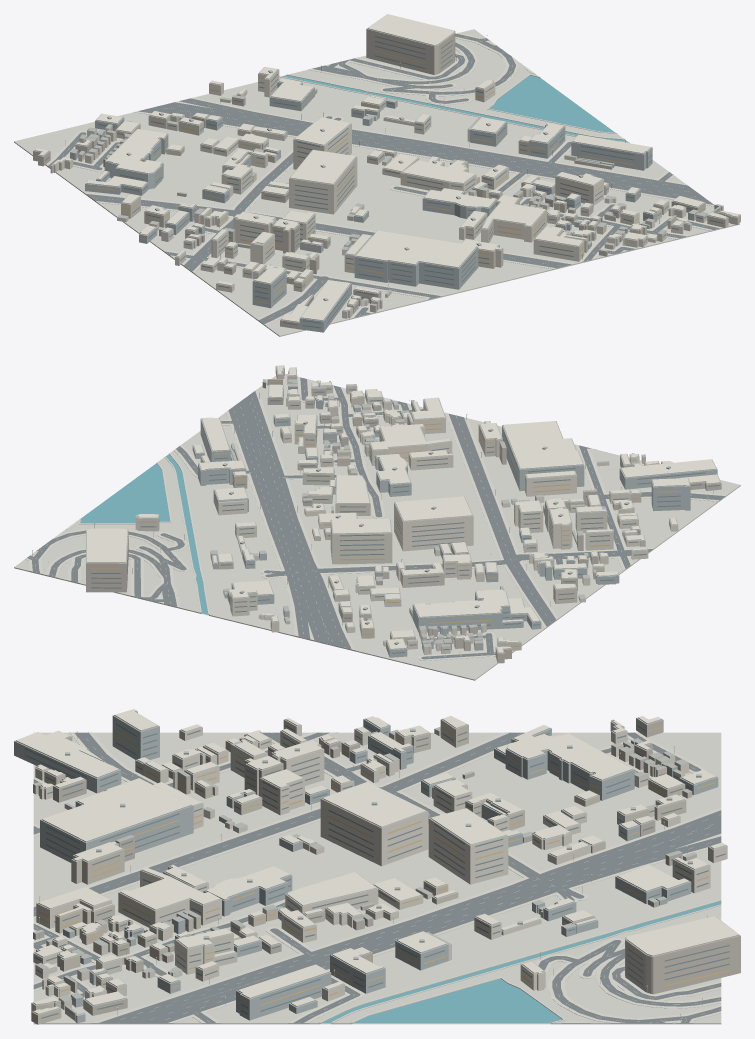
The picture shows the model from 3 angles, top to bottom: view 1: azimuth 30°, elevation 25°; view 2: azimuth 150°, elevation 25°; view 3: azimuth 270°, elevation 25°; orthographic projection. The views are drawn at different scales.
Visible parts, largest first — view 1: city; view 2: city; view 3: city.
Part boxes in pixels (x1=…): city: x1=14, y1=14, x2=740, y2=336; city: x1=14, y1=365, x2=740, y2=680; city: x1=14, y1=709, x2=740, y2=1024.
Bounding box in the file's own units: 513 × 34.05 × 529.
